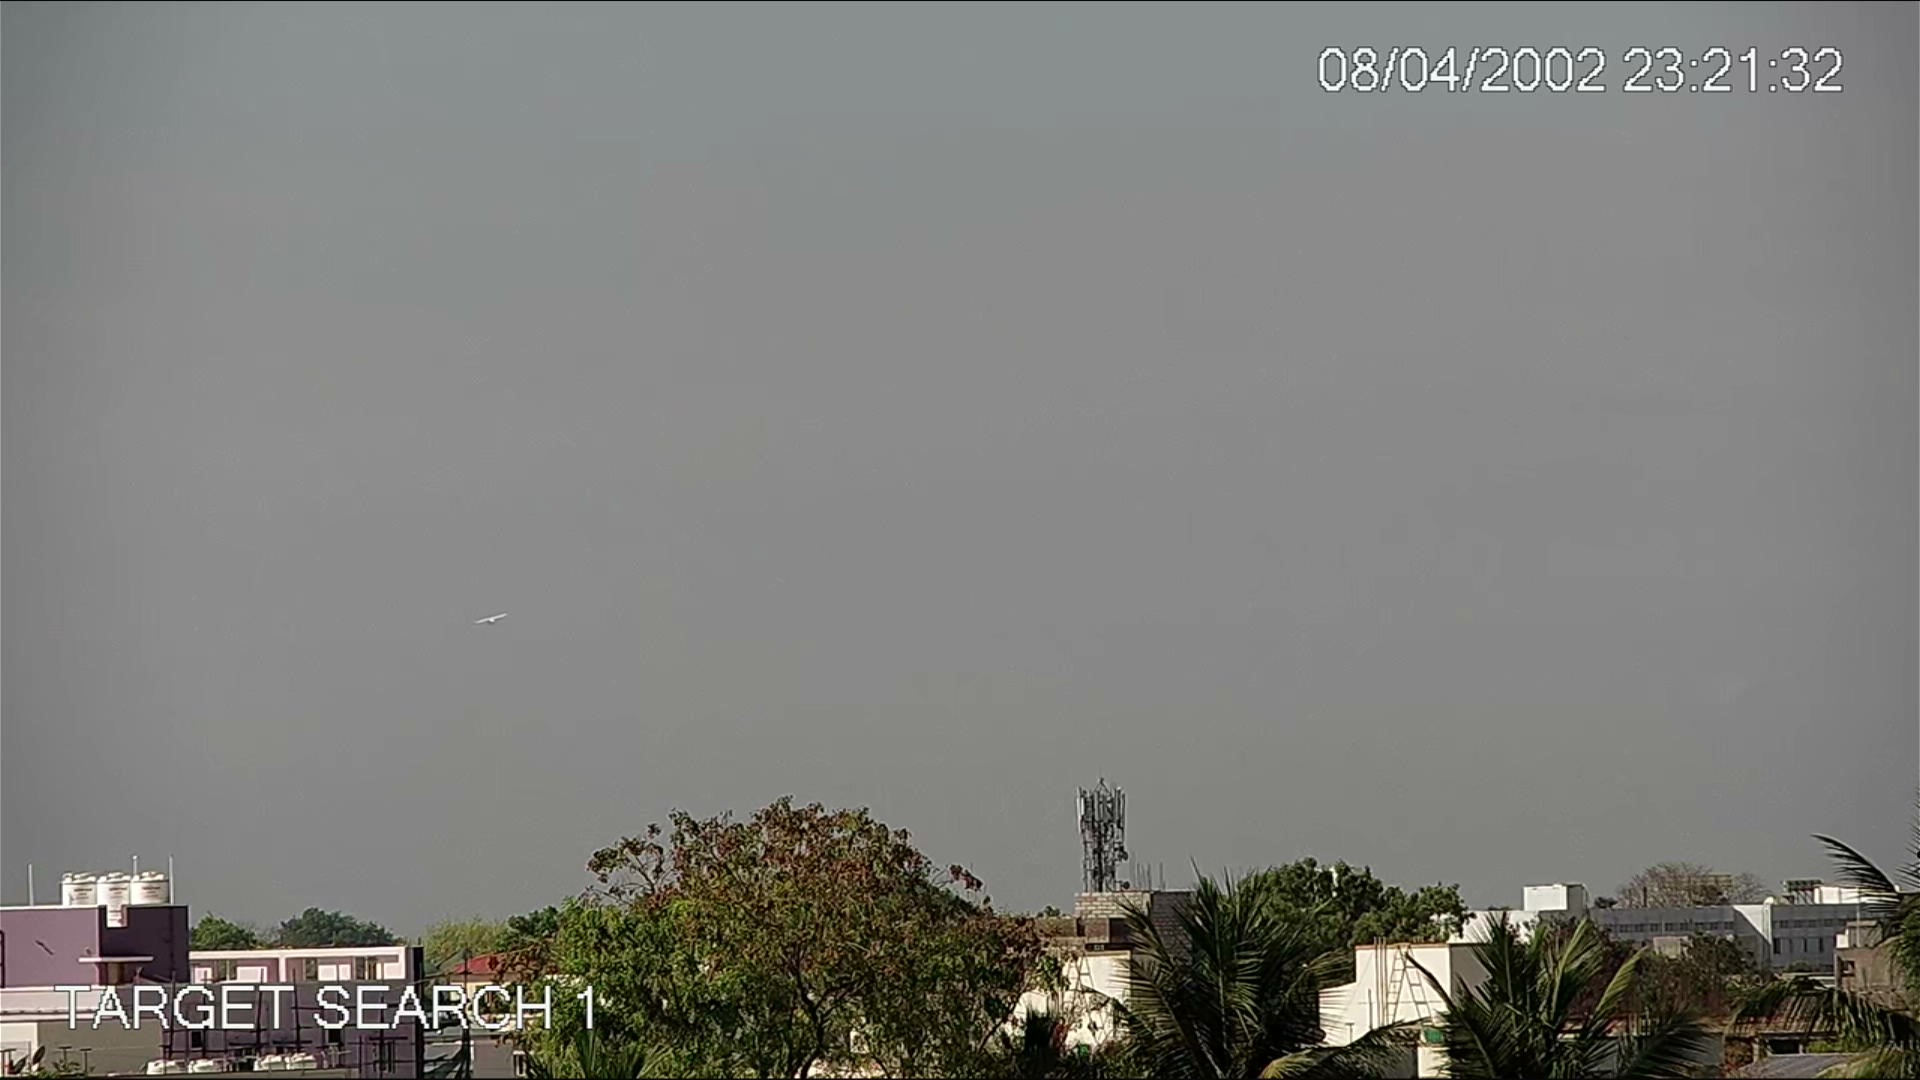SU_30: (469, 609, 512, 632)
